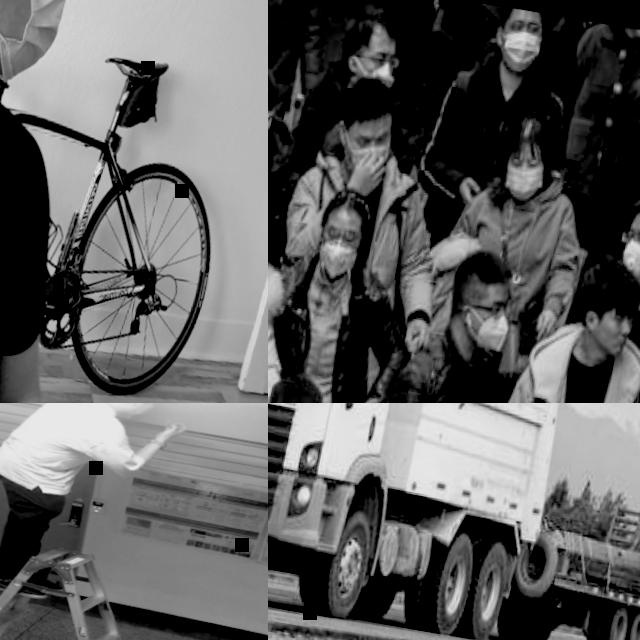Mask: (0, 0, 77, 97), (501, 158, 547, 205), (342, 139, 393, 181), (496, 30, 542, 74), (314, 239, 358, 284), (470, 312, 510, 360), (349, 58, 396, 88), (618, 239, 640, 282)
NO-Hardhat: (574, 256, 640, 316), (337, 76, 400, 130), (452, 244, 517, 295), (343, 1, 403, 52), (323, 182, 376, 229), (509, 101, 560, 147), (268, 371, 329, 403), (503, 7, 547, 22), (268, 63, 280, 104), (631, 191, 640, 232)
NO-Mask: (586, 325, 631, 361), (120, 403, 147, 420), (625, 28, 640, 41)
NO-Safety Vest: (437, 55, 558, 232), (560, 28, 640, 178), (0, 403, 120, 498), (519, 341, 640, 403), (313, 0, 412, 71), (380, 345, 497, 403), (604, 61, 640, 236), (306, 67, 353, 161), (439, 0, 501, 69), (268, 0, 314, 80), (268, 151, 293, 234)
Person: (0, 0, 167, 403), (268, 65, 459, 395), (425, 90, 605, 382), (407, 0, 583, 259), (0, 403, 194, 619), (345, 229, 557, 403), (268, 176, 429, 403), (285, 0, 442, 214), (470, 243, 640, 403), (545, 20, 640, 230), (293, 0, 443, 119), (572, 26, 640, 277), (268, 61, 315, 276), (424, 0, 503, 121), (268, 0, 337, 138), (597, 192, 640, 376), (532, 15, 595, 107)
machinery: (268, 403, 578, 640)
